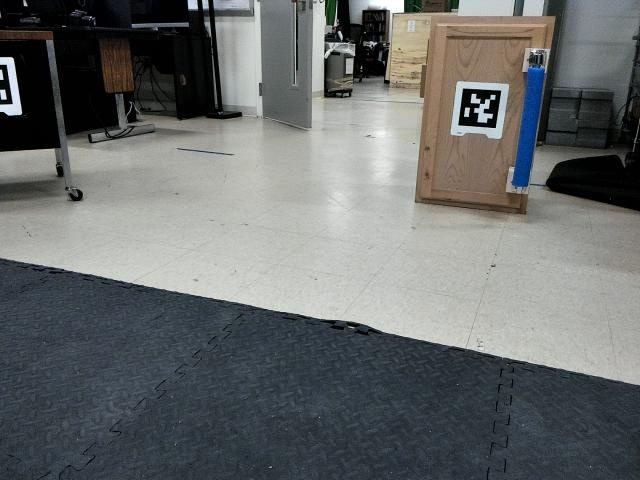noodle_handle: (508, 64, 552, 191)
